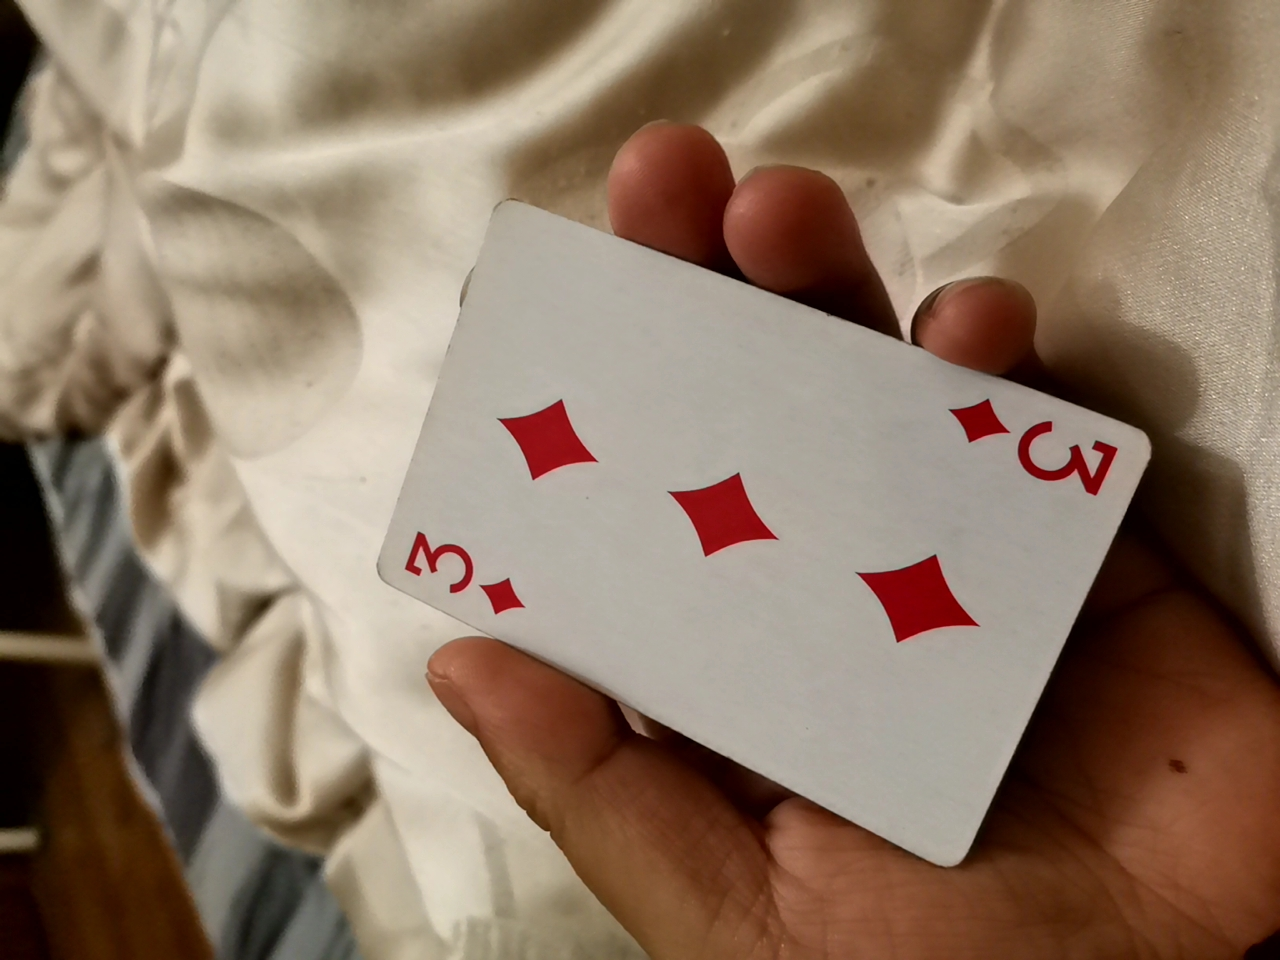fk 3: (357, 185, 1126, 864)
